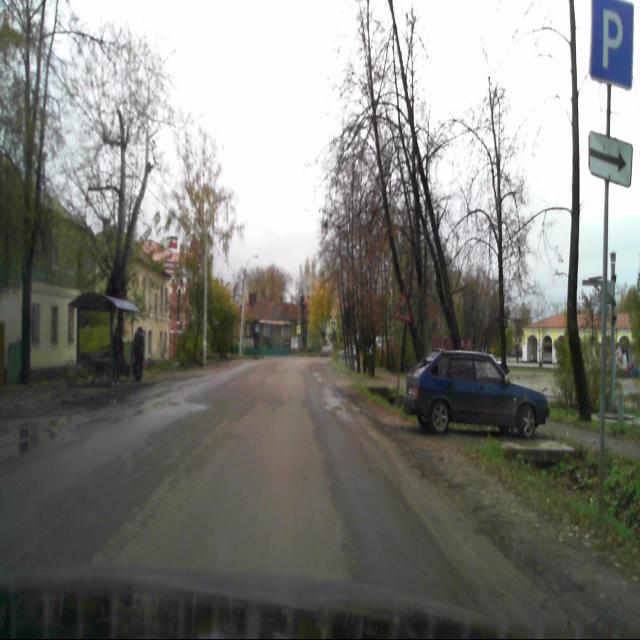road sign: (589, 0, 634, 90), (589, 131, 634, 187), (395, 292, 412, 323)
